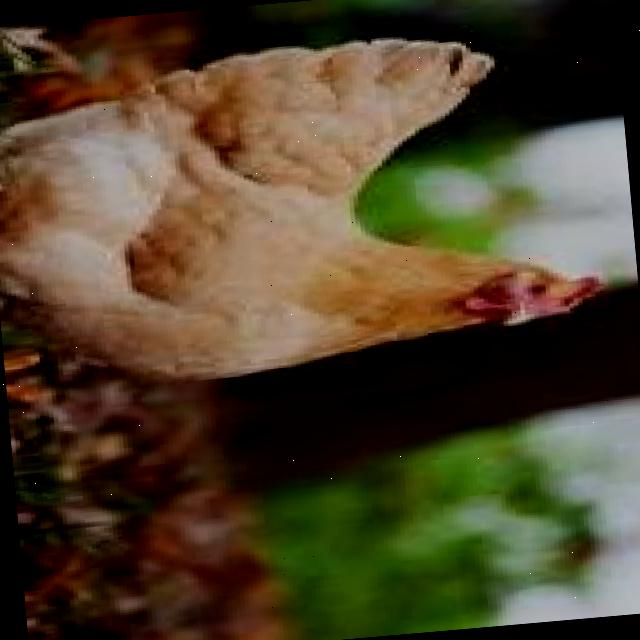Healthy: (0, 9, 616, 401)
